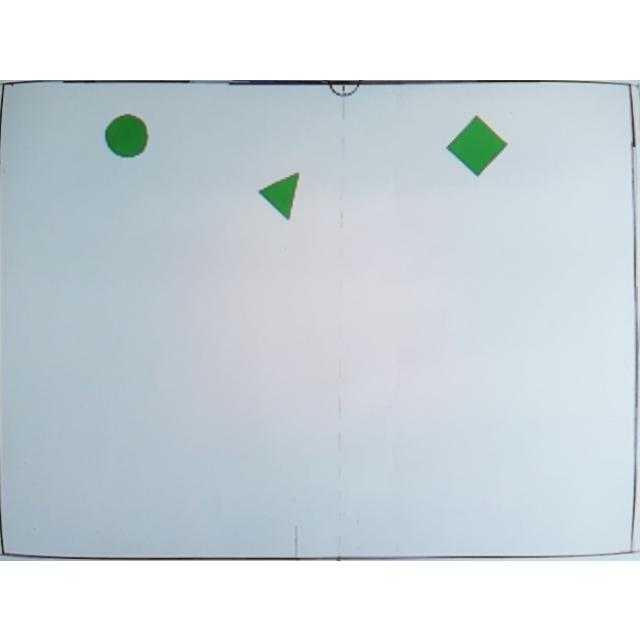greenCircle: (105, 112, 149, 158)
greenSquare: (445, 112, 507, 176)
greenTriangle: (255, 168, 302, 222)
